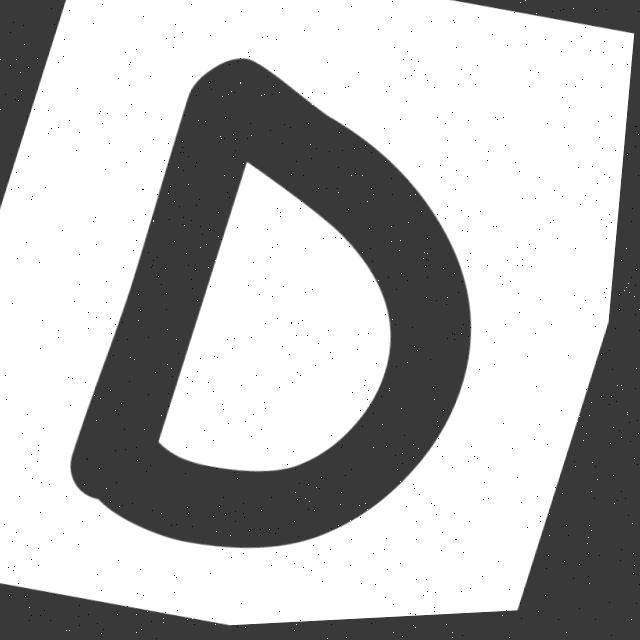D: (79, 61, 477, 551)
